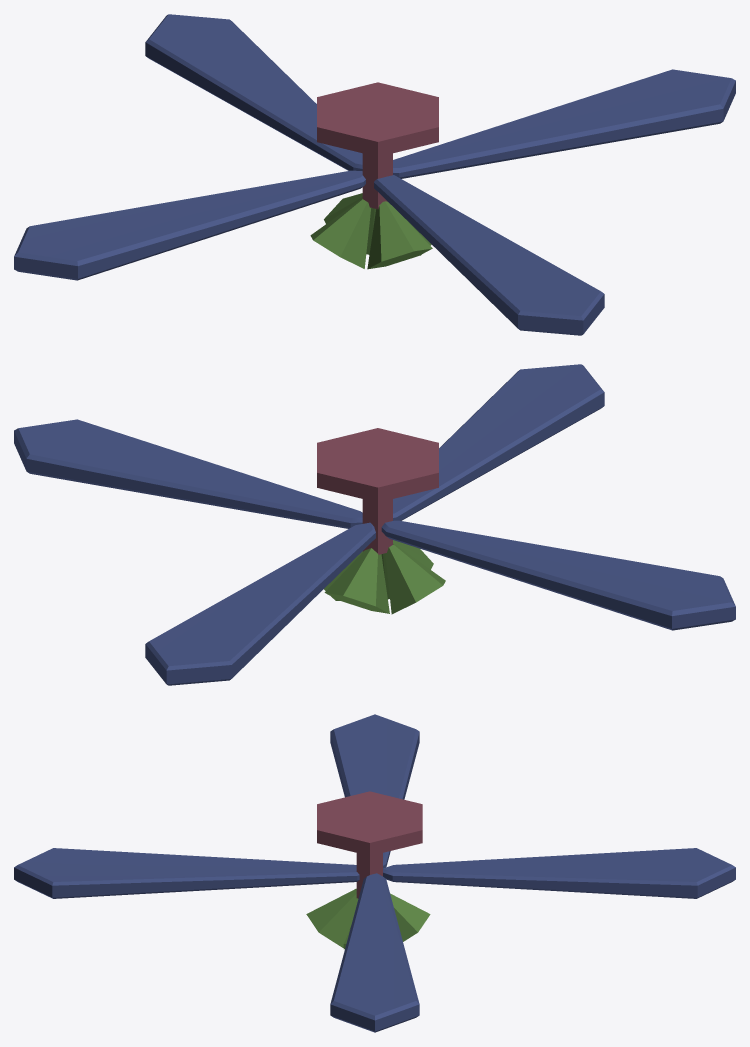
The model's file is roofFan.fbx.
3 renders of one model, top to bottom at view 1: azimuth 30°, elevation 25°; view 2: azimuth 150°, elevation 25°; view 3: azimuth 270°, elevation 25°, orthographic. The views are drawn at different scales.
Parts seen in each view (by area): view 1: fan; view 2: fan; view 3: fan.
Part boxes in pixels (x1,y1,x2,y2): fan: (14,14,735,335); fan: (14,364,735,685); fan: (14,714,735,1032).
Size of the model in its own units: 2.73 by 0.5346 by 2.73.
